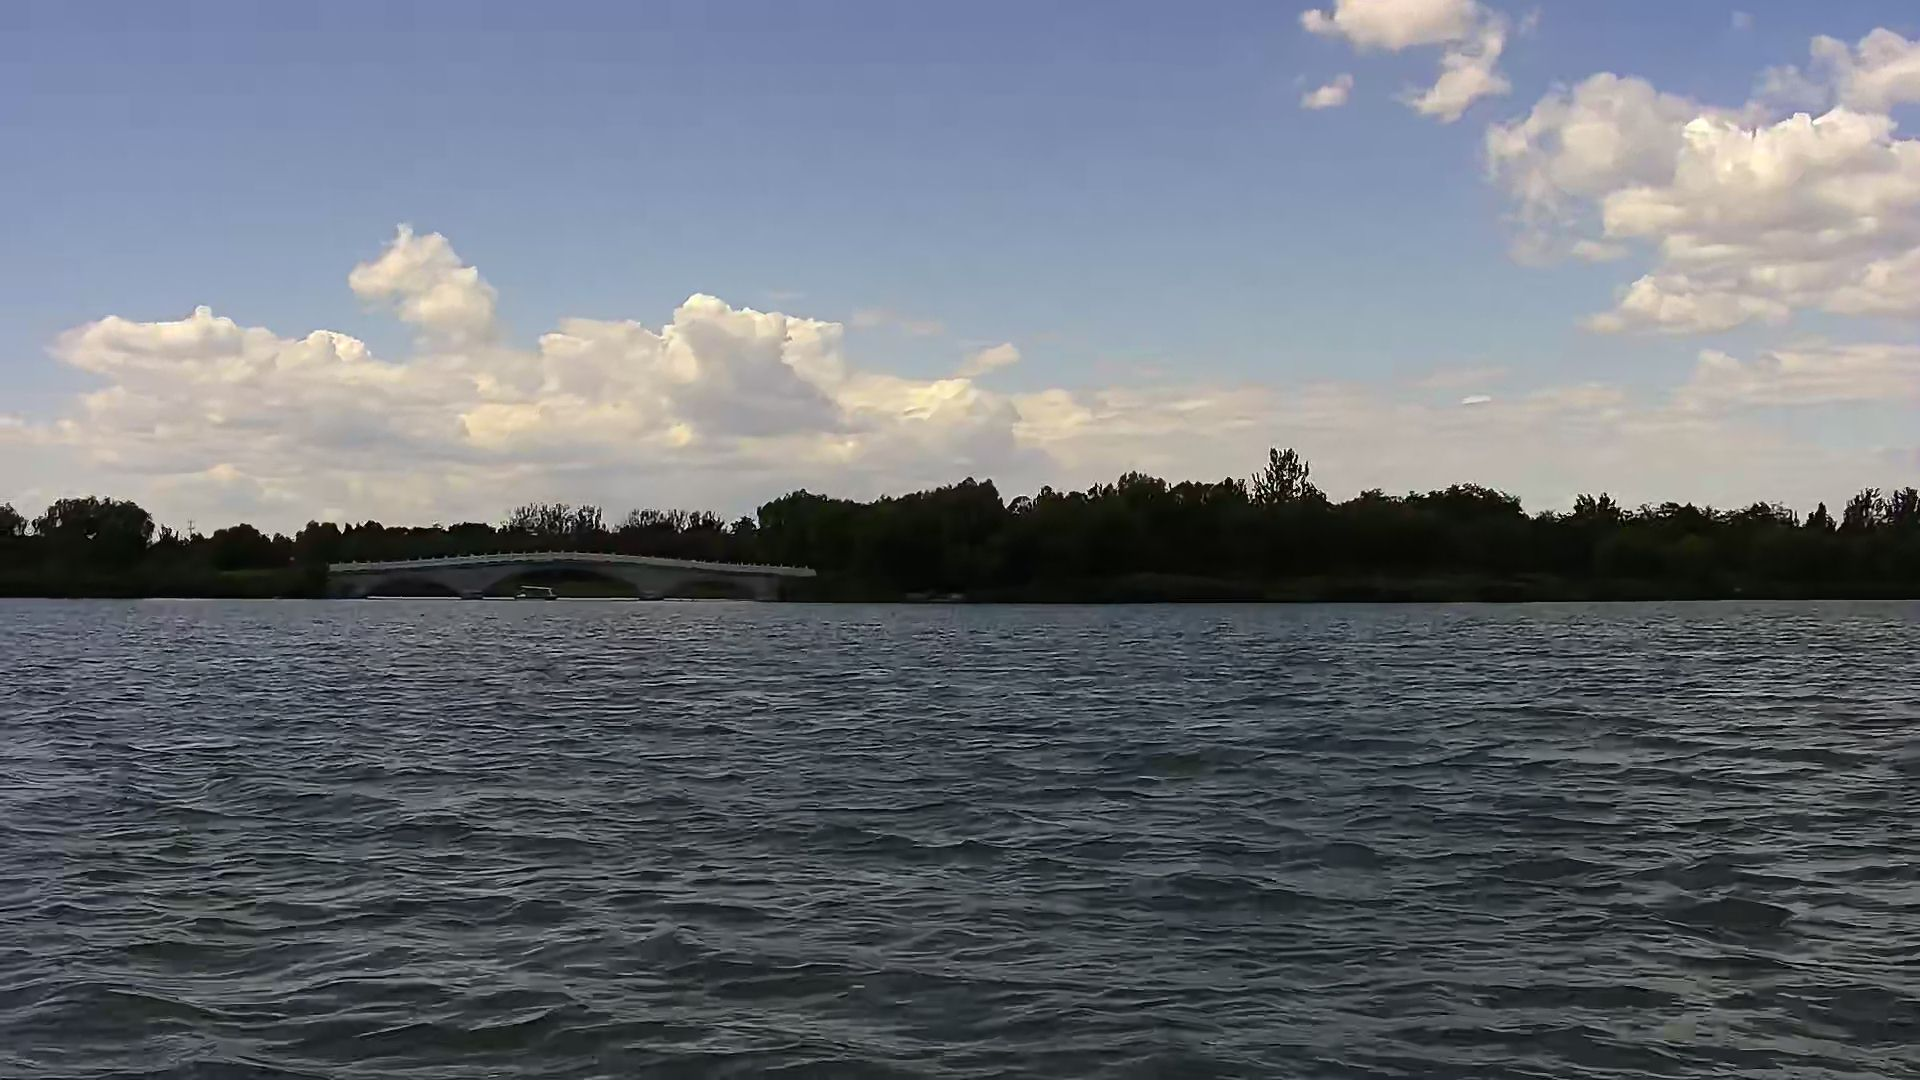boat: (512, 580, 562, 603)
bridge: (326, 553, 814, 603)
